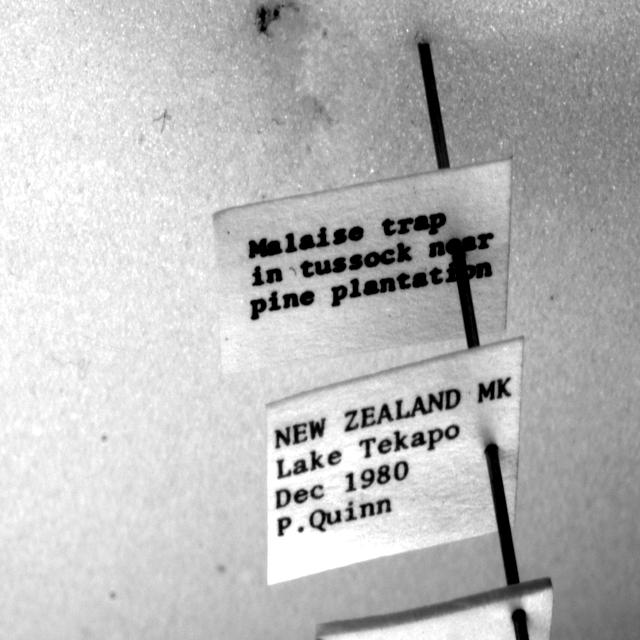typed_label: (214, 159, 511, 373), (266, 338, 522, 585)
